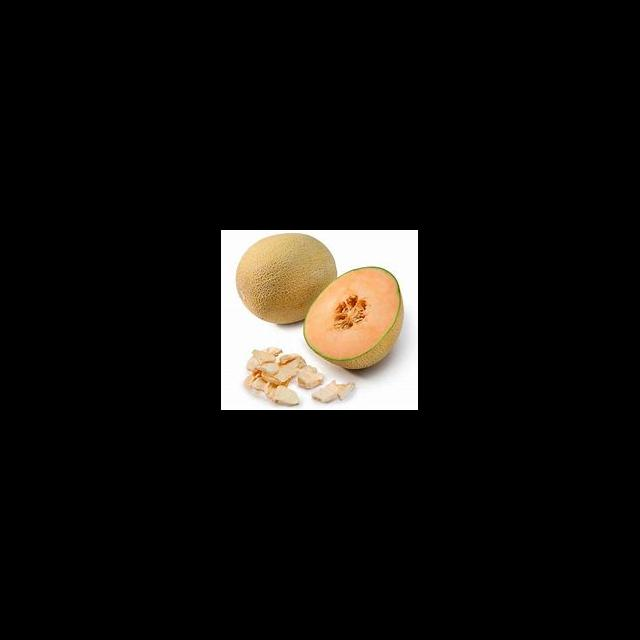Hami Melon: (306, 267, 405, 369), (237, 233, 338, 325)
